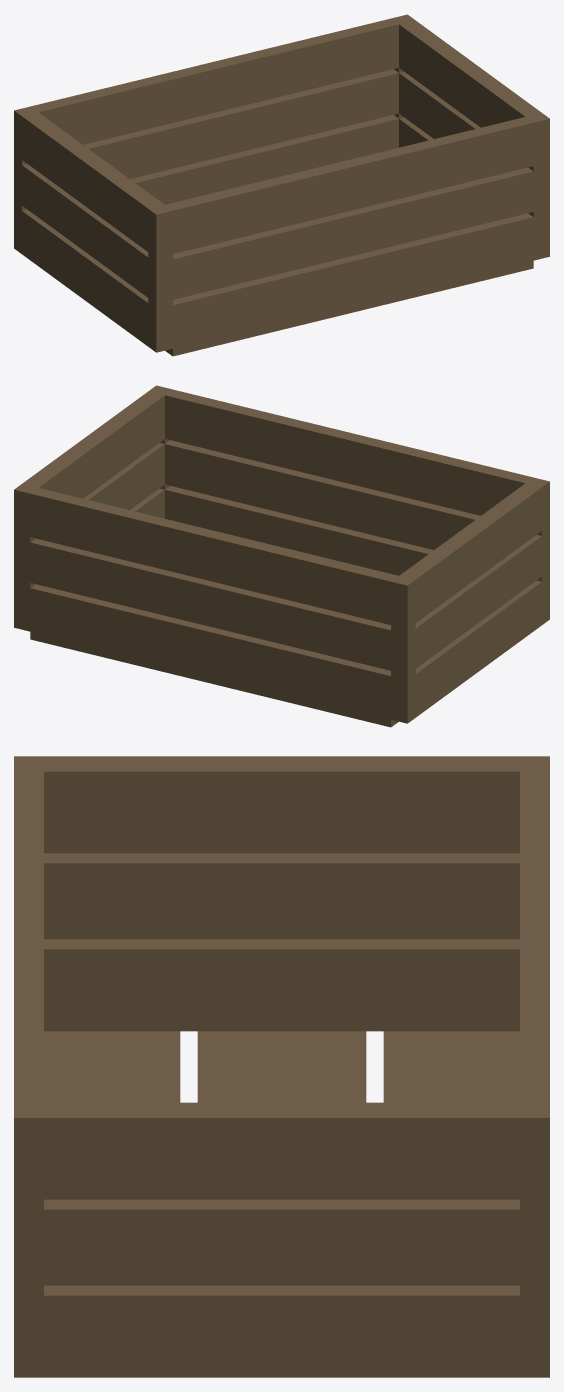
Rendered from MarketCrate1_RJ_16-11.fbx.
3 renders of one model, top to bottom at view 1: azimuth 30°, elevation 25°; view 2: azimuth 150°, elevation 25°; view 3: azimuth 270°, elevation 25°, orthographic. The views are drawn at different scales.
Visible parts, largest first — view 1: Cube; view 2: Cube; view 3: Cube.
Part boxes in pixels (x1,y1,x2,y2): Cube: [14, 14, 549, 356]; Cube: [14, 385, 549, 727]; Cube: [14, 756, 549, 1377].
Bounding box in the file's own units: 209 × 73.86 × 131.
